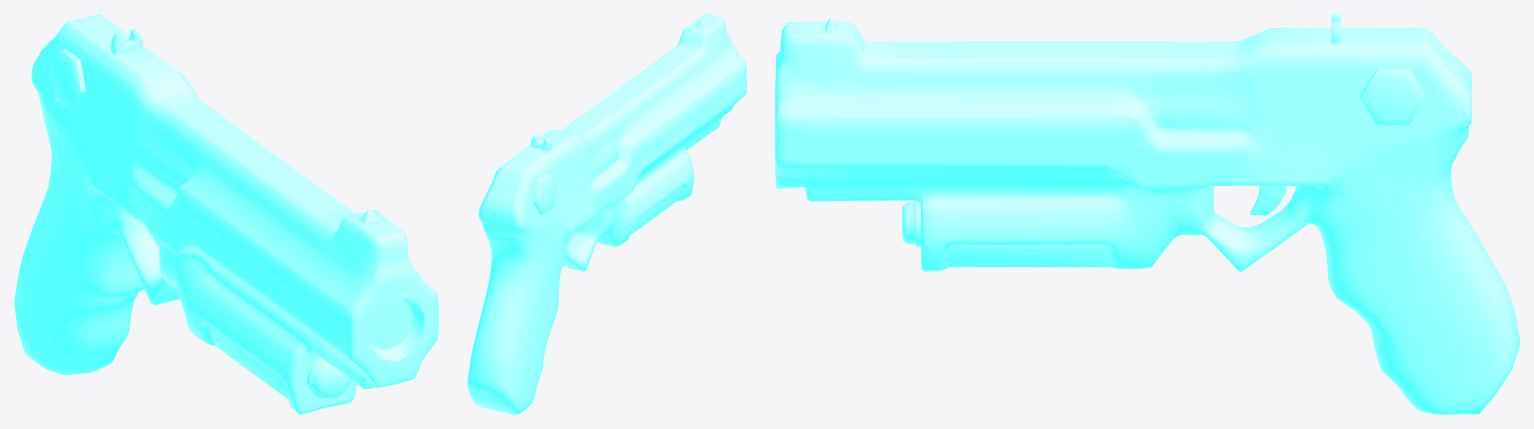
Rendered from scifipistol01-1.glb.
3 views of the same model, side by side, from view 1: azimuth 30°, elevation 25°; view 2: azimuth 150°, elevation 25°; view 3: azimuth 270°, elevation 25° (orthographic). The views are drawn at different scales.
Visible parts, largest first — view 1: SciFiPistol01_1; view 2: SciFiPistol01_1; view 3: SciFiPistol01_1.
Part boxes in pixels (x1,y1,x2,y2): SciFiPistol01_1: (14, 14, 438, 414); SciFiPistol01_1: (467, 14, 746, 414); SciFiPistol01_1: (775, 14, 1519, 414).
Size of the model in its own units: 0.0375 by 0.1496 by 0.2632.
